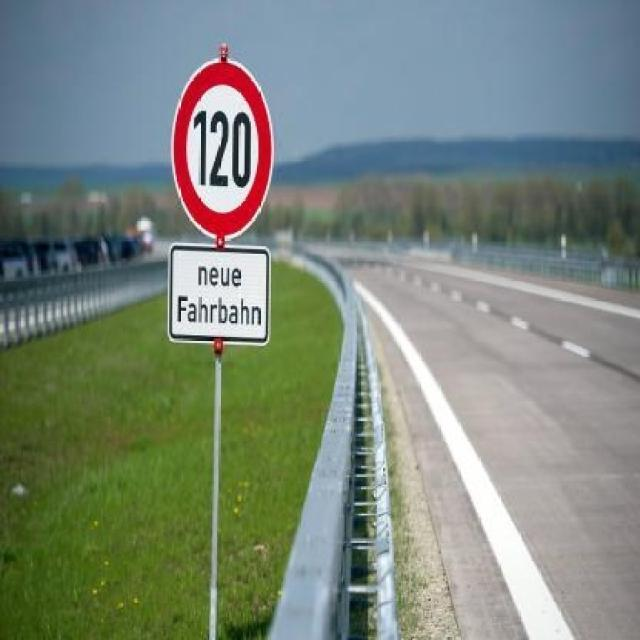forb_speed_over_120: (172, 59, 272, 239)
